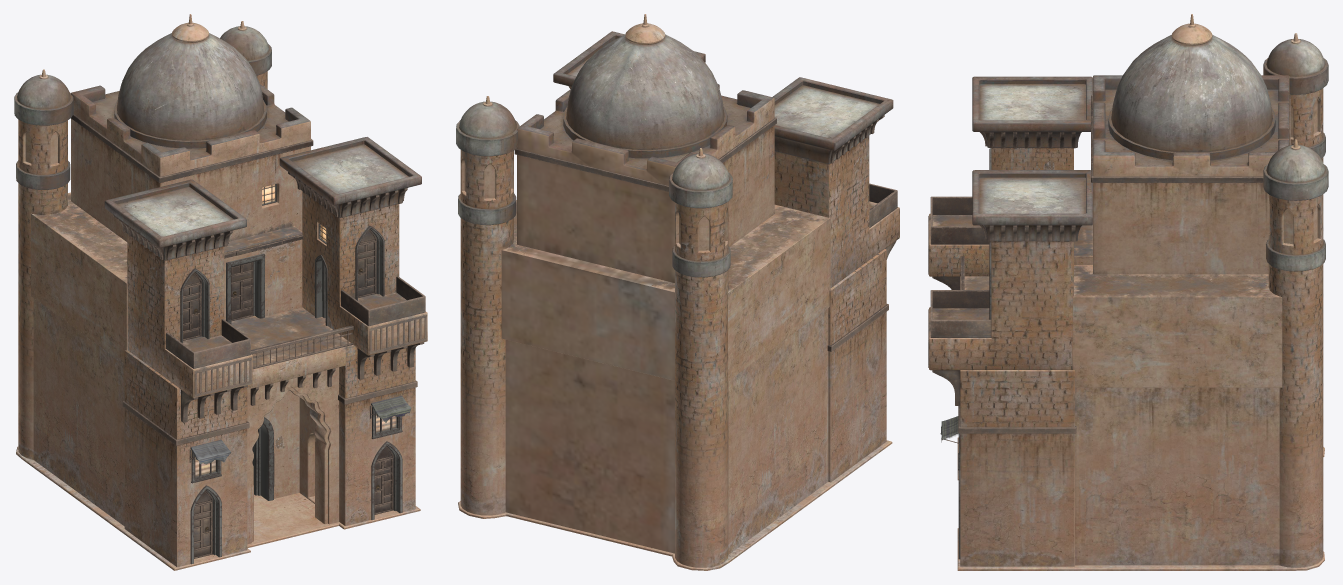
Rendered from xi_dep_bunglow.gltf.
3 views of the same model, side by side, from view 1: azimuth 30°, elevation 25°; view 2: azimuth 150°, elevation 25°; view 3: azimuth 270°, elevation 25° (orthographic). The views are drawn at different scales.
Visible parts, largest first — view 1: xi_dep_bunglow; view 2: xi_dep_bunglow; view 3: xi_dep_bunglow.
Part boxes in pixels (box(x1,y1,x2,y2)): xi_dep_bunglow: box(14, 14, 427, 570); xi_dep_bunglow: box(456, 14, 899, 570); xi_dep_bunglow: box(928, 14, 1328, 570).
Bounding box in the file's own units: 9.6 × 15.64 × 11.55.
3 materials, 3 textured.
